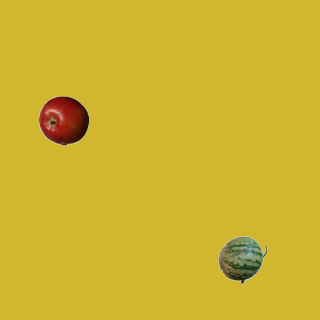Apple Braeburn: (38, 95, 88, 145)
Watermelon: (217, 234, 267, 284)
